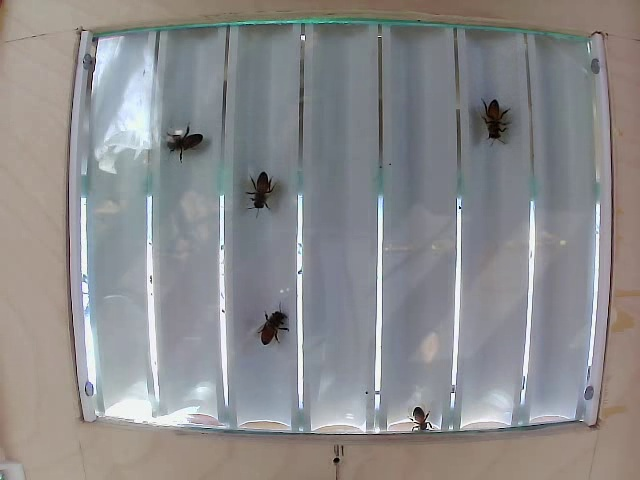bee: (244, 164, 298, 229), (155, 125, 212, 172), (257, 313, 307, 359), (465, 108, 511, 141), (403, 399, 443, 427)
